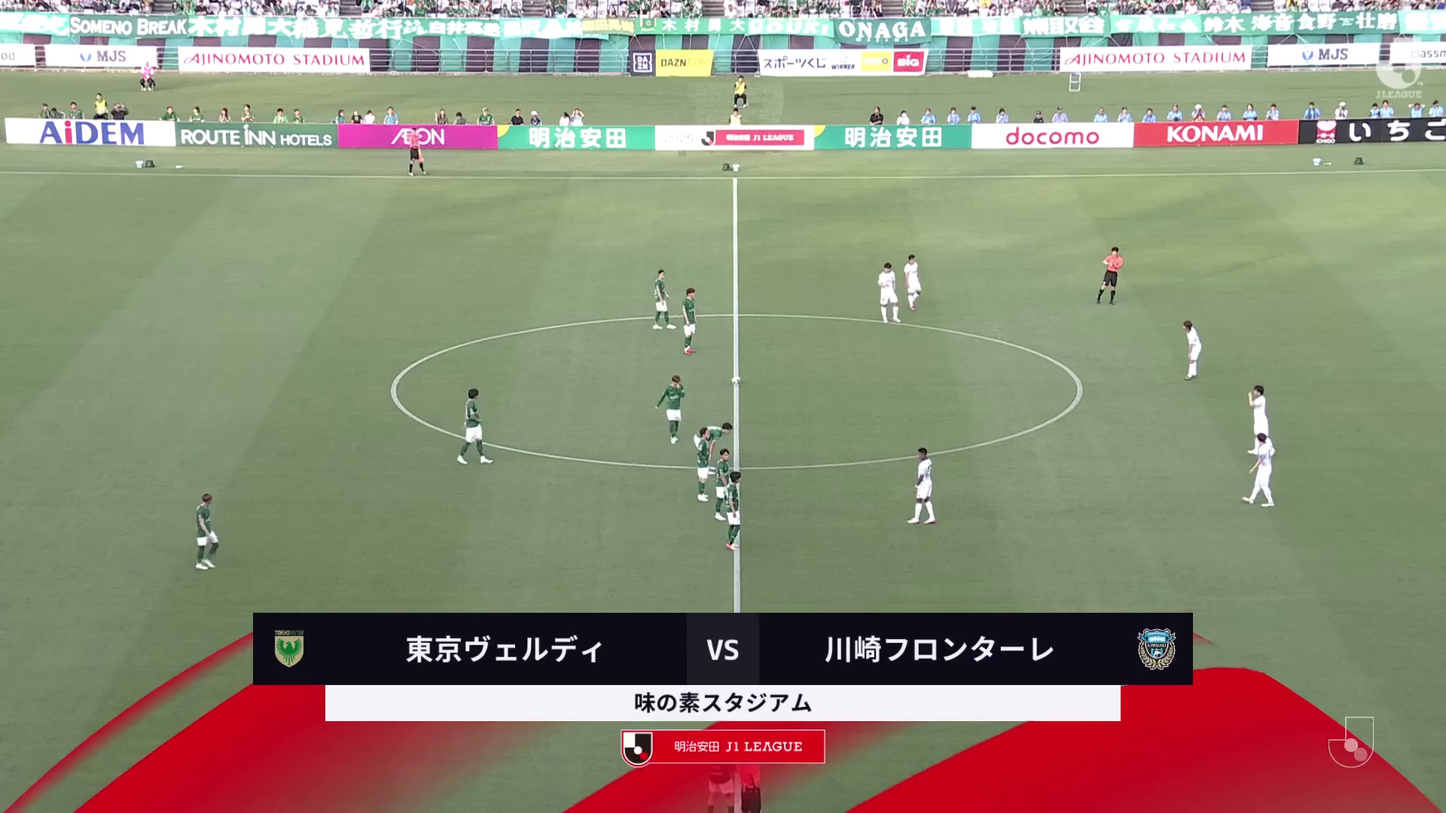ball: (731, 375, 741, 386)
player: (453, 386, 496, 469), (1240, 433, 1280, 510), (188, 491, 225, 573), (904, 445, 941, 527), (653, 374, 690, 446), (692, 422, 735, 477), (1243, 383, 1276, 453), (874, 261, 905, 327), (710, 448, 740, 516), (677, 286, 704, 356), (1178, 319, 1207, 382), (648, 268, 676, 332), (723, 470, 743, 553), (691, 425, 712, 503), (900, 253, 926, 312), (136, 57, 162, 94)
referee: (1092, 245, 1127, 309), (403, 127, 430, 178)
